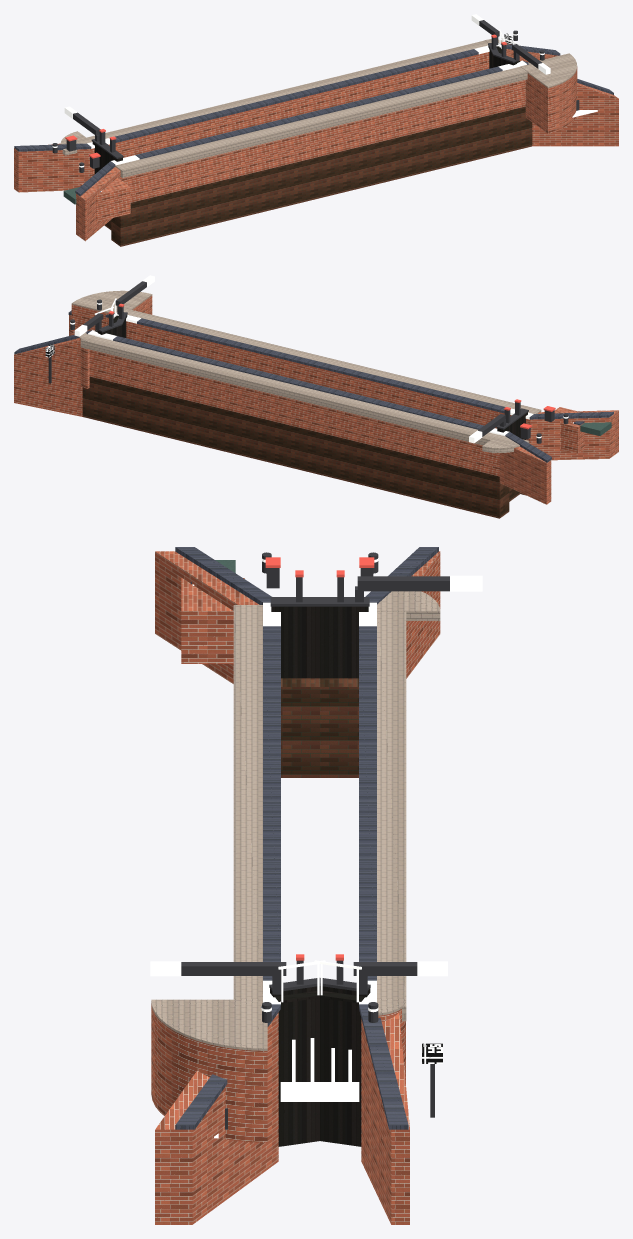
Rendered from lock-53.glb.
The picture shows the model from 3 angles, top to bottom: view 1: azimuth 30°, elevation 25°; view 2: azimuth 150°, elevation 25°; view 3: azimuth 270°, elevation 25°; orthographic projection. The views are drawn at different scales.
Visible parts, largest first — view 1: Chamber, ChamberWet, Edge, Coping.001, TopGateCap, Coping, TopGate; view 2: Chamber, ChamberWet, Edge, Coping.001, TopGateCap, Coping, TopGate, WeirWater; view 3: Chamber, Edge, Coping.001, TopGate, TopGateCap, ChamberWet, Coping, Leak.
Part boxes in pixels (box(x1,y1,x2,y2)): Chamber: box(14, 43, 618, 241); ChamberWet: box(104, 106, 532, 246); Edge: box(60, 39, 577, 177); Coping.001: box(14, 43, 613, 196); TopGateCap: box(52, 20, 579, 172); Coping: box(52, 14, 550, 167); TopGate: box(92, 46, 520, 173); Chamber: box(14, 295, 618, 504); ChamberWet: box(82, 376, 526, 518); Edge: box(71, 290, 541, 453); Coping.001: box(14, 310, 613, 462); TopGateCap: box(48, 281, 568, 443); Coping: box(70, 275, 568, 443); TopGate: box(95, 315, 527, 439); WeirWater: box(580, 422, 611, 435); Chamber: box(151, 551, 440, 1224); Edge: box(151, 591, 440, 1050); Coping.001: box(175, 547, 438, 1129); TopGate: box(270, 606, 370, 1146); TopGateCap: box(181, 552, 449, 1129); ChamberWet: box(281, 678, 358, 777); Coping: box(150, 558, 482, 1012); Leak: box(192, 584, 359, 1138).
Bounding box in the file's own units: 32.95 × 5.7 × 8.85.
Materials: 11 (8 with a texture image).
